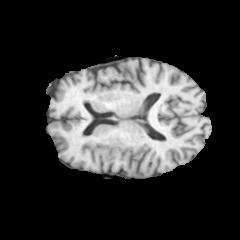glioma: (94, 140, 126, 163)
